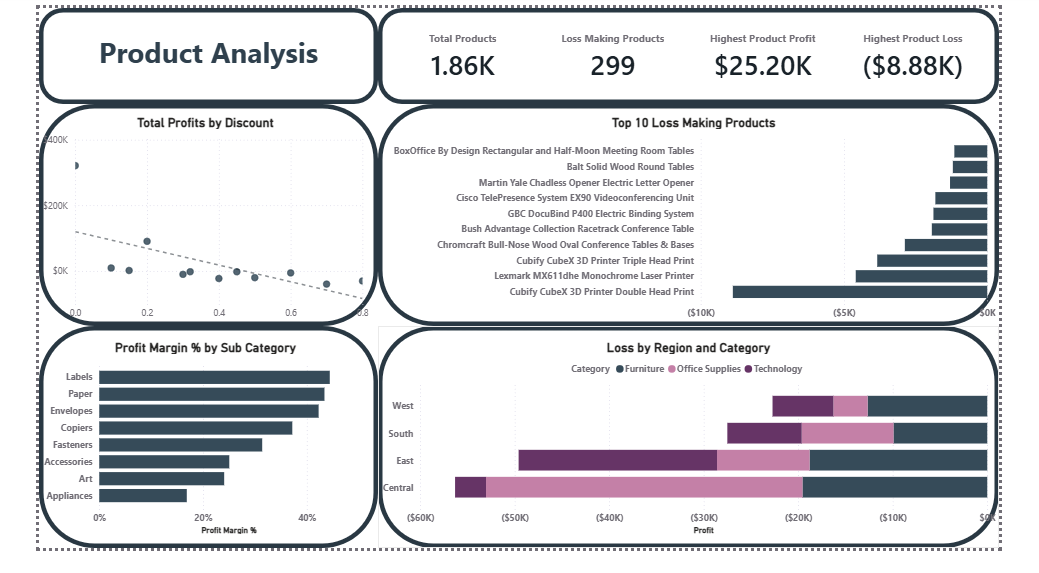

The dashboard page shown, as its layout file describes it:
{"tool":"powerbi","page":{"name":"Product Analysis","canvas":[1280,720],"ordinal":2},"visuals":[{"type":"shape","box":[0,0,452,128],"z":0,"group":"g1"},{"type":"group","id":"g1","title":"Background","box":[0,0,1280,720],"z":500},{"type":"cardVisual","fields":{"Data":["Count(superstore.product_id)","superstore.Loss Making Products","superstore.Highest Product Profit","superstore.Highest Product Loss"]},"box":[452,0,828,128],"z":1000},{"type":"shape","box":[0,128,452,296],"z":1000,"group":"g1"},{"type":"barChart","title":"Top 10 Loss Making Products","fields":{"Y":["Sum(superstore.profit)"],"Category":["superstore.product_name"]},"box":[466,142,814,282],"z":2000},{"type":"shape","box":[0,424,452,296],"z":2000,"group":"g1"},{"type":"shape","box":[452,128,828,296],"z":3000,"group":"g1"},{"type":"scatterChart","title":"Discount vs Profit ","fields":{"Y":["Sum(superstore.profit)"],"X":["superstore.discount"]},"box":[18,142,402,268],"z":3000},{"type":"shape","box":[452,424,828,296],"z":4000,"group":"g1"},{"type":"barChart","title":"Profit Margin % by Sub Category","fields":{"Category":["superstore.sub_category"],"Y":["superstore.Profit Margin %"]},"box":[18,442,426,264],"z":4000},{"type":"shape","box":[452,0,828,128],"z":5000,"group":"g1"},{"type":"textbox","box":[32,28,388,72],"z":5000},{"type":"barChart","title":"Loss by Region and Category","fields":{"Category":["superstore.region"],"Y":["Sum(superstore.profit)"],"Series":["superstore.category"]},"box":[452,442,828,264],"z":6000}]}

Visuals, with their boxes in screenshot pixels (x1, y1, x2, y2), scaled from the page's 1280x720 canvas onto the 1039x573 screenshot:
shape: <region>0, 0, 367, 102</region>
"Background" group: <region>0, 0, 1038, 572</region>
cardVisual - Count(superstore.product_id) x superstore.Loss Making Products: <region>367, 0, 1038, 102</region>
shape: <region>0, 102, 367, 337</region>
"Top 10 Loss Making Products" barChart: <region>378, 113, 1038, 337</region>
shape: <region>0, 337, 367, 572</region>
shape: <region>367, 102, 1038, 337</region>
"Discount vs Profit " scatterChart: <region>15, 113, 341, 326</region>
shape: <region>367, 337, 1038, 572</region>
"Profit Margin % by Sub Category" barChart: <region>15, 352, 360, 562</region>
shape: <region>367, 0, 1038, 102</region>
textbox: <region>26, 22, 341, 80</region>
"Loss by Region and Category" barChart: <region>367, 352, 1038, 562</region>
